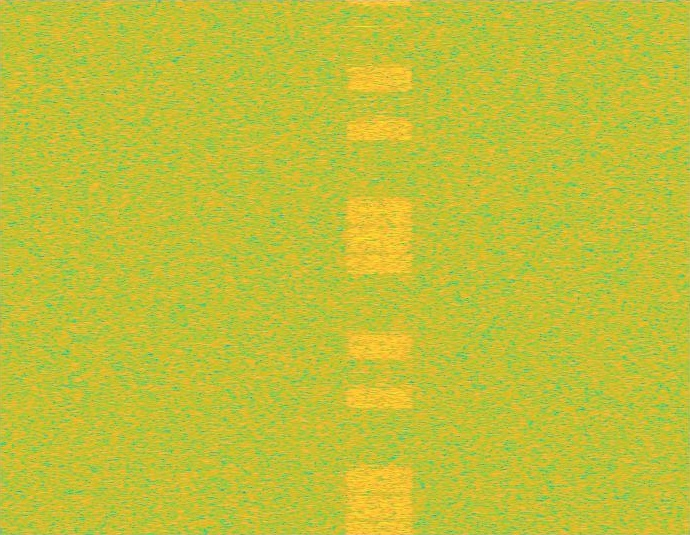LTE: (345, 0, 414, 534)
Radar: (358, 0, 372, 534)
